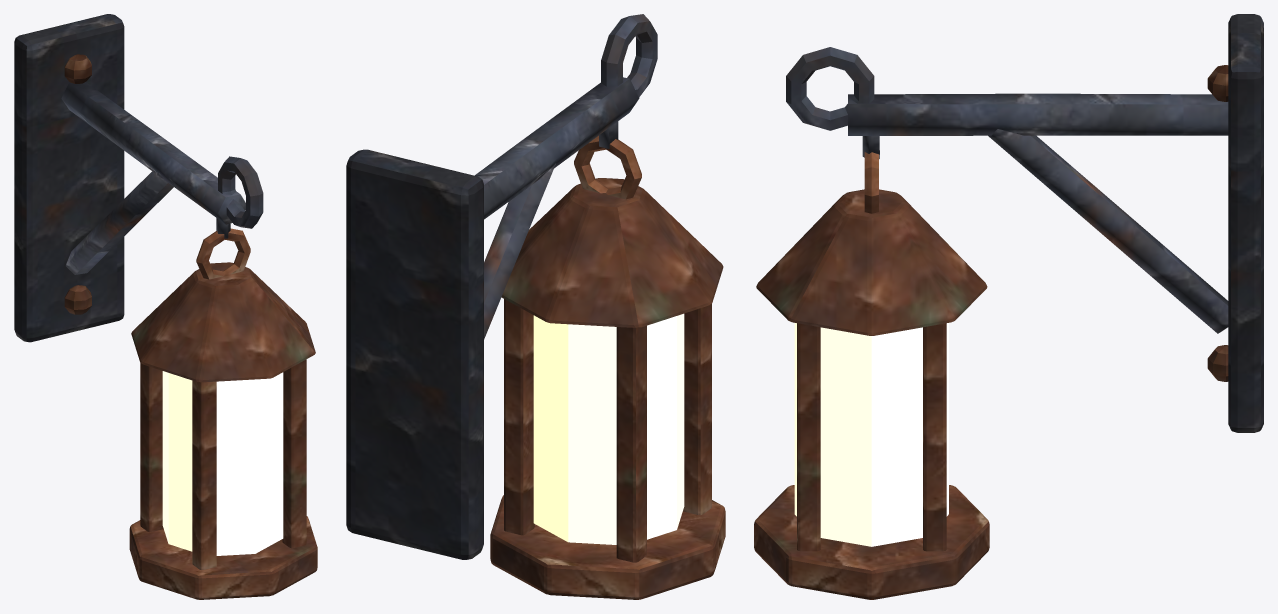
Rendered from lantern_hook.glb.
The picture shows the model from 3 angles, left to right: view 1: azimuth 30°, elevation 25°; view 2: azimuth 150°, elevation 25°; view 3: azimuth 270°, elevation 25°; orthographic projection. The views are drawn at different scales.
Visible parts, largest first — view 1: model; view 2: model; view 3: model.
Part boxes in pixels (x1,y1,x2,y2): model: (14,14,317,599); model: (346,14,725,599); model: (754,14,1263,599).
Size of the model in its own units: 0.1982 by 0.475 by 0.4291.
5 materials, 4 textured.
